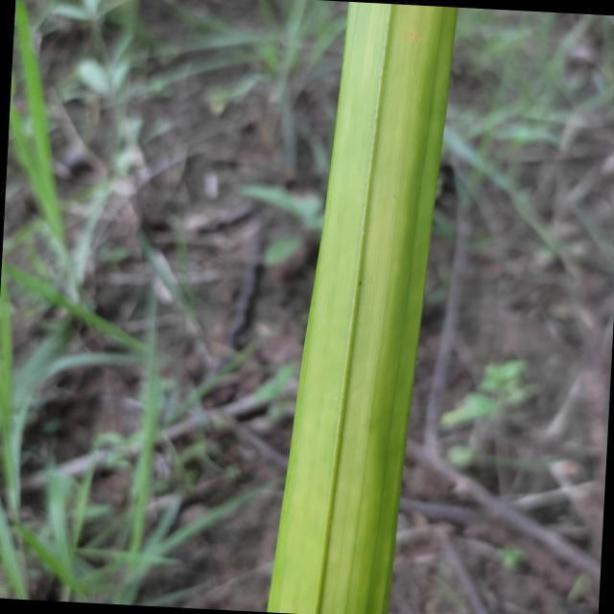nitrogen: (262, 0, 459, 614)
